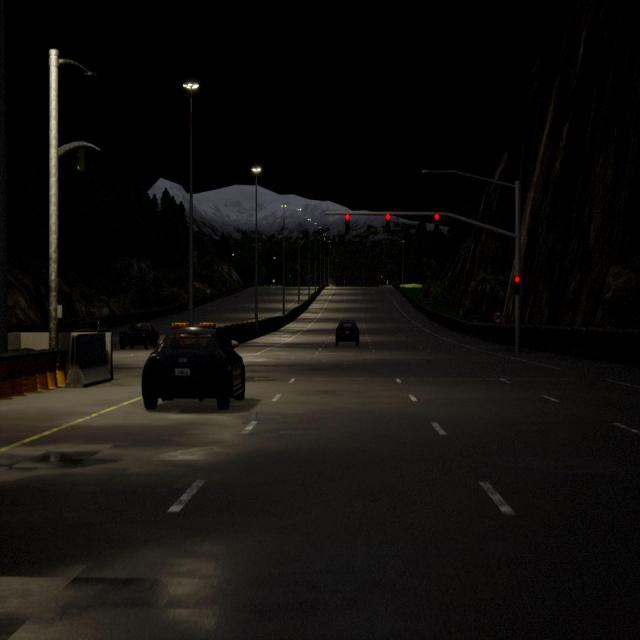Traffic_Signs: (494, 312, 502, 322), (103, 308, 109, 314), (207, 289, 210, 293)
Vehicle: (142, 323, 246, 412), (120, 322, 160, 350), (335, 318, 360, 348)
traffic_light: (77, 146, 86, 174), (434, 213, 440, 230), (515, 275, 520, 295), (345, 213, 350, 232), (386, 213, 390, 232)
